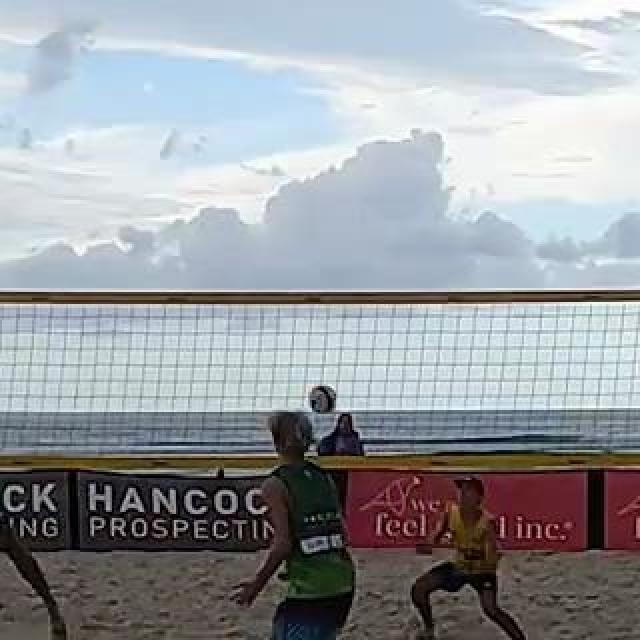volleyball: (310, 384, 336, 412)
